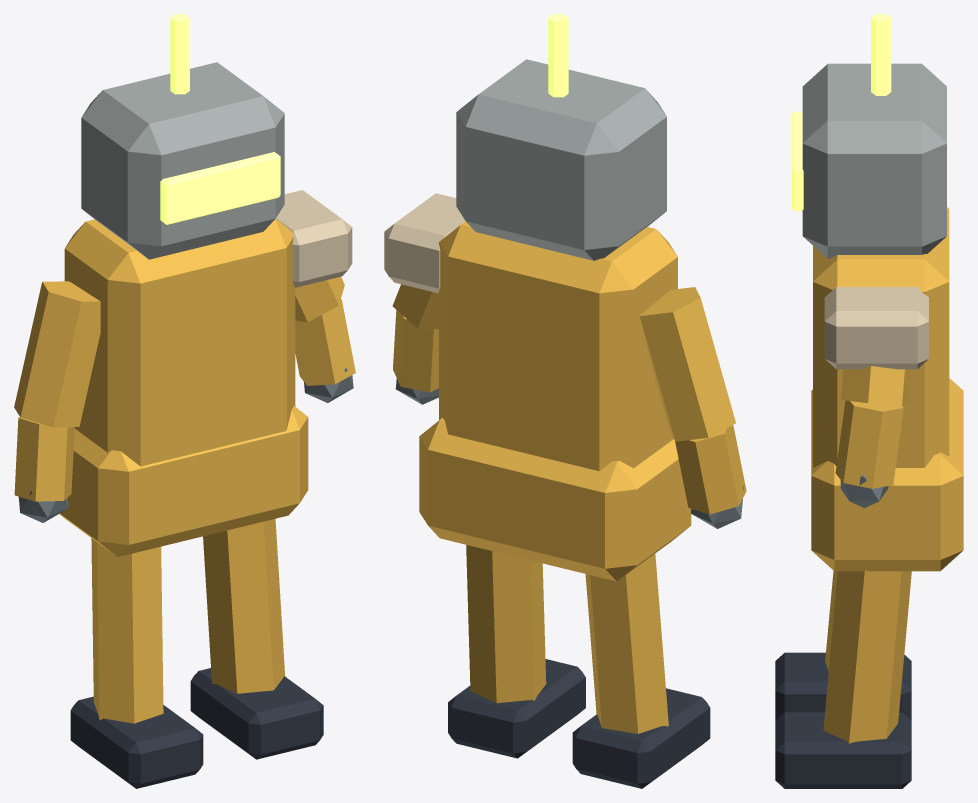
The model's file is npcs_023_seed11.glb.
3 renders of one model, left to right at view 1: azimuth 30°, elevation 25°; view 2: azimuth 150°, elevation 25°; view 3: azimuth 270°, elevation 25°, orthographic. The views are drawn at different scales.
Visible parts, largest first — view 1: npcs_023_seed11; view 2: npcs_023_seed11; view 3: npcs_023_seed11.
Boxes of the visible parts, x1,y1,x2,y2 form: npcs_023_seed11: (14,14,355,788); npcs_023_seed11: (384,14,746,788); npcs_023_seed11: (775,14,963,788).
Bounding box in the file's own units: 0.9394 × 1.92 × 0.4507.
